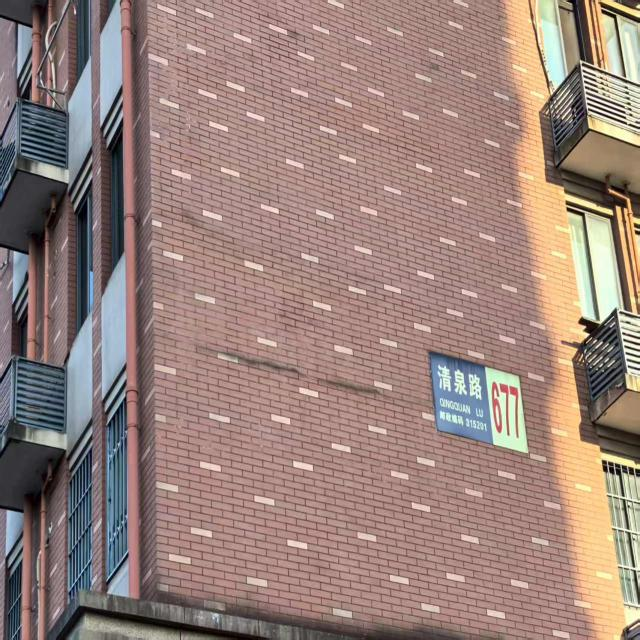crack: (193, 340, 389, 402)
